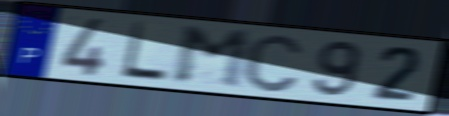2: (368, 44, 423, 105)
4: (59, 16, 108, 78)
9: (309, 39, 365, 99)
C: (240, 32, 306, 94)
L: (118, 19, 171, 84)
M: (171, 25, 253, 91)
